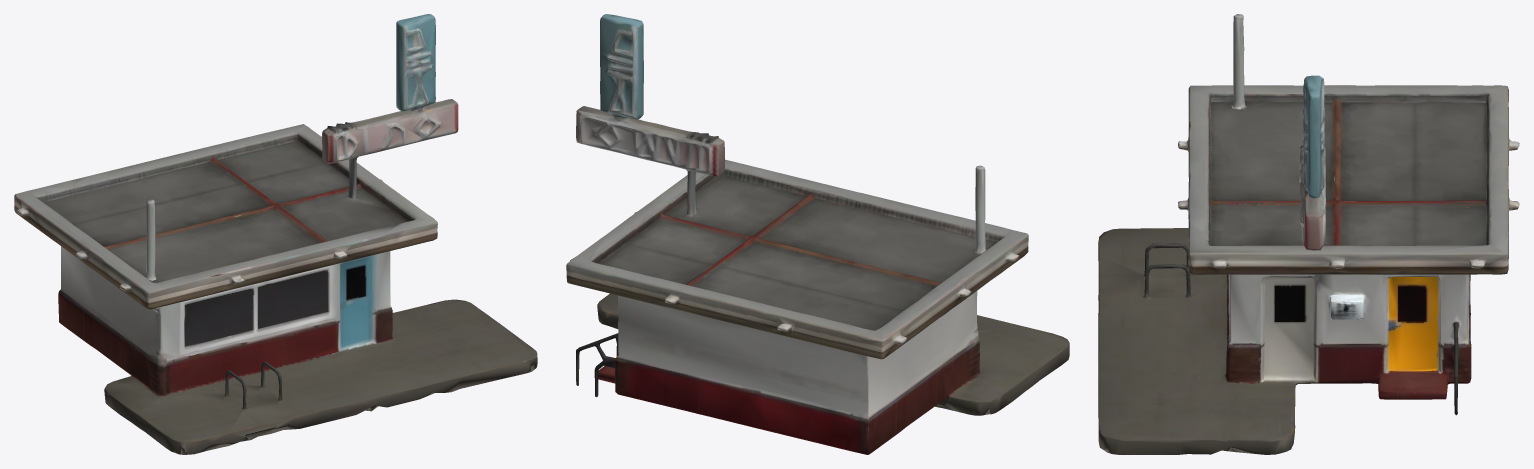
Rendered from motel.glb.
The picture shows the model from 3 angles, left to right: view 1: azimuth 30°, elevation 25°; view 2: azimuth 150°, elevation 25°; view 3: azimuth 270°, elevation 25°; orthographic projection. The views are drawn at different scales.
Bounding box in the file's own units: 1 × 0.7644 × 0.8366.
Materials: 1 (1 with a texture image).
